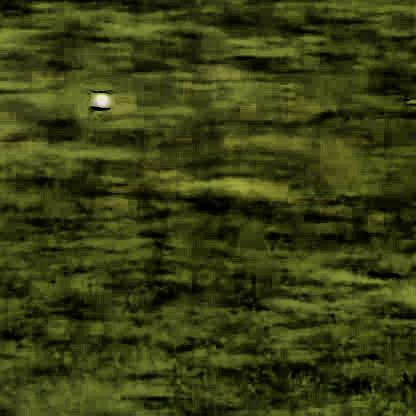golfball: (88, 93, 110, 109)
